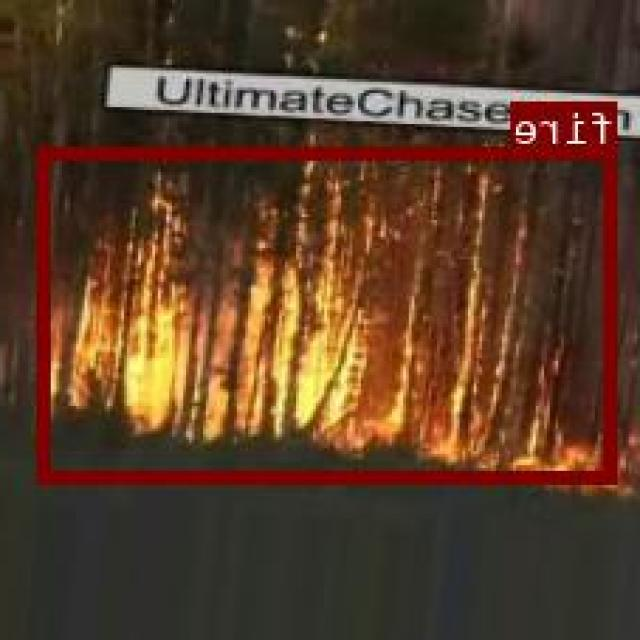fire: (40, 146, 618, 480)
